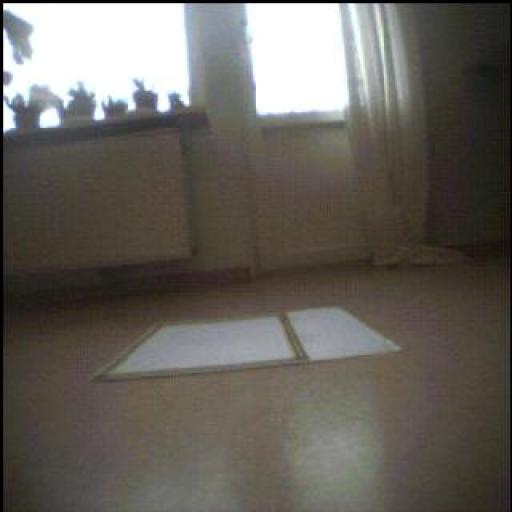Pad: (101, 308, 400, 382)
